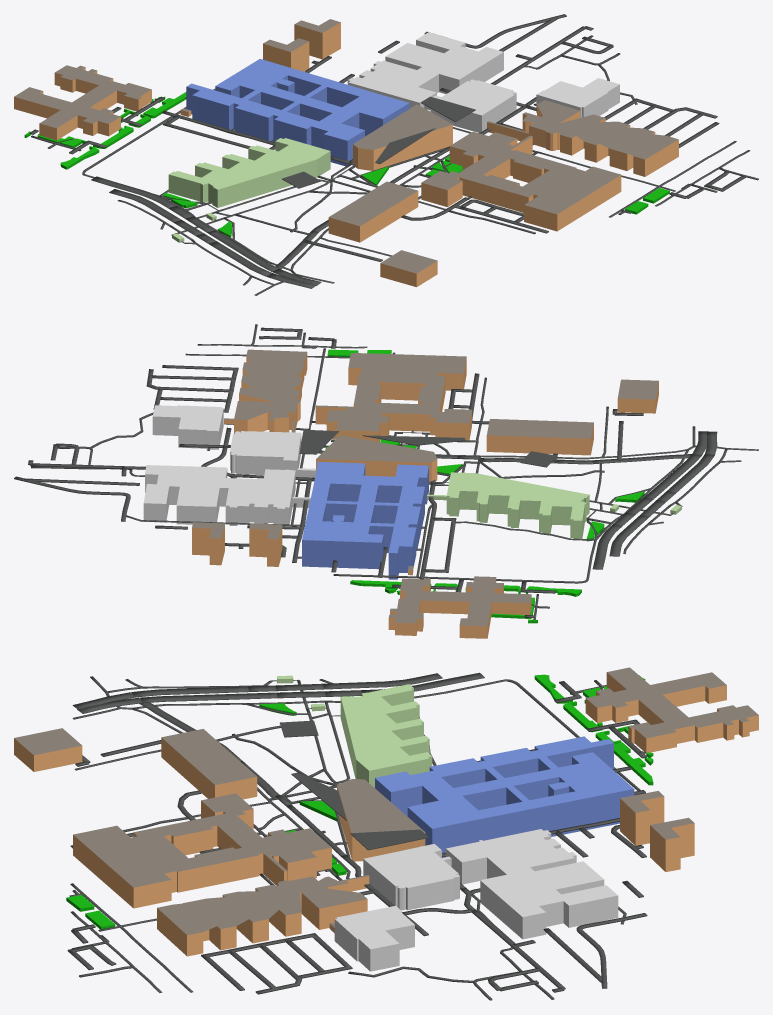
Rendered from HervantaKampus_OMS_MixedVersion_withoutterrain.fbx.
3 renders of one model, top to bottom at view 1: azimuth 30°, elevation 25°; view 2: azimuth 150°, elevation 25°; view 3: azimuth 270°, elevation 25°, orthographic. The views are drawn at different scales.
Visible parts, largest first — view 1: Festia, Sahkotalo, Konetalo, ServiceRoads, Rakennustalo, TietoTalo, Kampusareena, RoadsBasic, TTY-Parkki, Highways, SmallerPaths, Greenery (+3 smaller); view 2: Festia, Sahkotalo, Konetalo, Rakennustalo, ServiceRoads, TietoTalo, RoadsBasic, TTY-Parkki, Highways, Päärakennus, Kampusareena, SmallerPaths (+4 smaller); view 3: Festia, Sahkotalo, Konetalo, Rakennustalo, ServiceRoads, TietoTalo, Highways, Päärakennus, RoadsBasic, TTY-Parkki, Tamppi Areena, Kampusareena (+4 smaller).
Part boxes in pixels (left/top/right/bottom): Festia: left=14, top=19, right=678, bottom=287; Sahkotalo: left=186, top=59, right=409, bottom=166; Konetalo: left=421, top=131, right=621, bottom=231; ServiceRoads: left=29, top=14, right=745, bottom=261; Rakennustalo: left=347, top=32, right=503, bottom=108; TietoTalo: left=168, top=138, right=330, bottom=242; Kampusareena: left=353, top=104, right=452, bottom=170; RoadsBasic: left=83, top=65, right=750, bottom=295; TTY-Parkki: left=328, top=181, right=418, bottom=242; Highways: left=91, top=176, right=321, bottom=288; SmallerPaths: left=31, top=35, right=758, bottom=234; Greenery: left=24, top=92, right=669, bottom=237; Festia: left=192, top=349, right=658, bottom=638; Sahkotalo: left=302, top=461, right=428, bottom=579; Konetalo: left=315, top=353, right=471, bottom=442; Rakennustalo: left=143, top=465, right=310, bottom=526; ServiceRoads: left=14, top=327, right=643, bottom=617; TietoTalo: left=427, top=472, right=681, bottom=538; RoadsBasic: left=126, top=344, right=758, bottom=581; TTY-Parkki: left=486, top=419, right=593, bottom=455; Highways: left=592, top=431, right=717, bottom=569; Päärakennus: left=230, top=431, right=315, bottom=477; Kampusareena: left=316, top=435, right=437, bottom=481; SmallerPaths: left=31, top=324, right=610, bottom=619; Festia: left=14, top=667, right=758, bottom=956; Sahkotalo: left=375, top=736, right=634, bottom=857; Konetalo: left=73, top=793, right=331, bottom=908; Rakennustalo: left=446, top=829, right=618, bottom=939; ServiceRoads: left=67, top=681, right=647, bottom=994; TietoTalo: left=277, top=675, right=432, bottom=787; Highways: left=72, top=672, right=484, bottom=713; Päärakennus: left=363, top=844, right=459, bottom=910; RoadsBasic: left=70, top=676, right=626, bottom=992; TTY-Parkki: left=161, top=729, right=257, bottom=799; Tamppi Areena: left=334, top=905, right=414, bottom=971; Kampusareena: left=337, top=779, right=425, bottom=861.
Bounding box in the file's own units: 55705 × 3078 × 54498.
